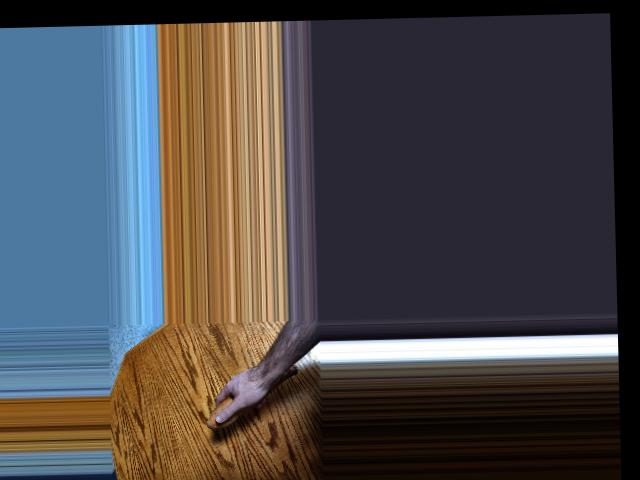sweet_potato: (204, 361, 302, 429)
